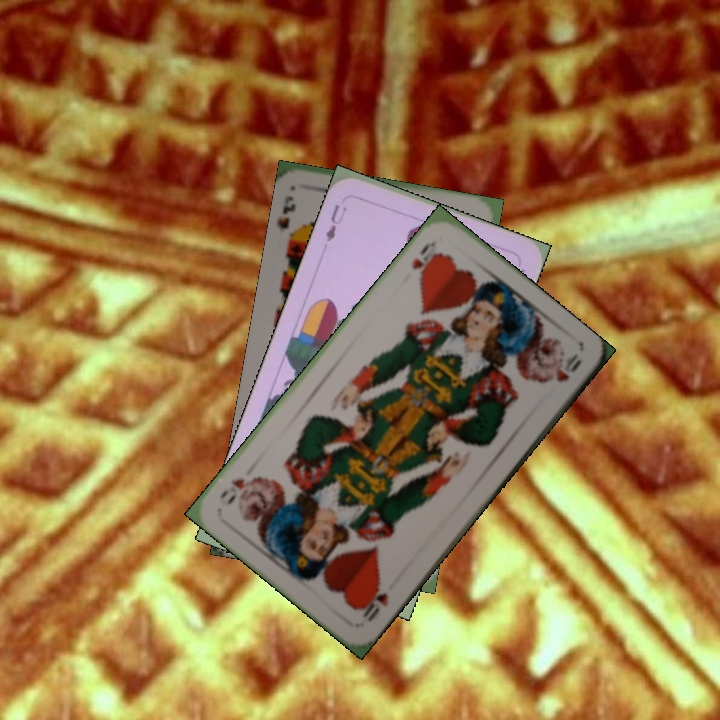EU: (321, 200, 350, 245)
HO: (407, 236, 443, 283), (357, 584, 391, 625)
S9: (274, 192, 302, 241)
